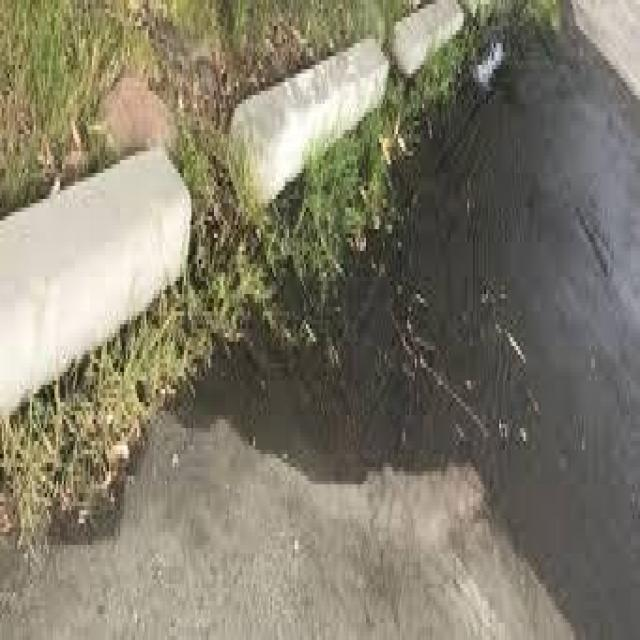curb: (1, 1, 465, 424)
